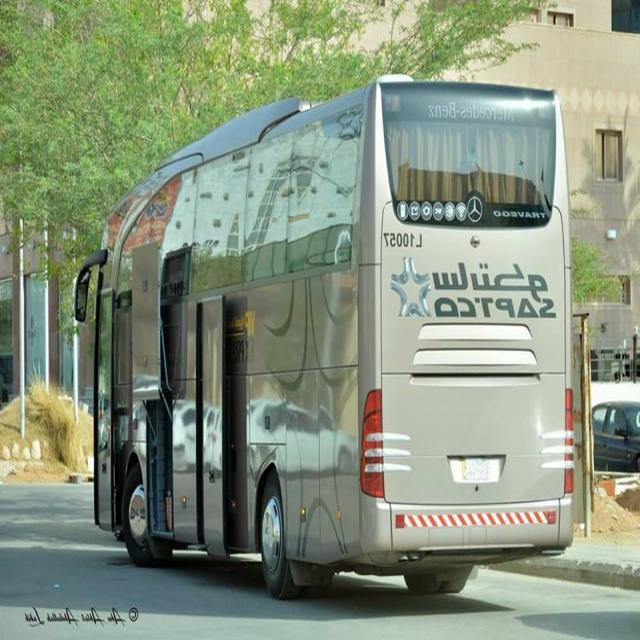Double decker: (43, 65, 611, 621)
